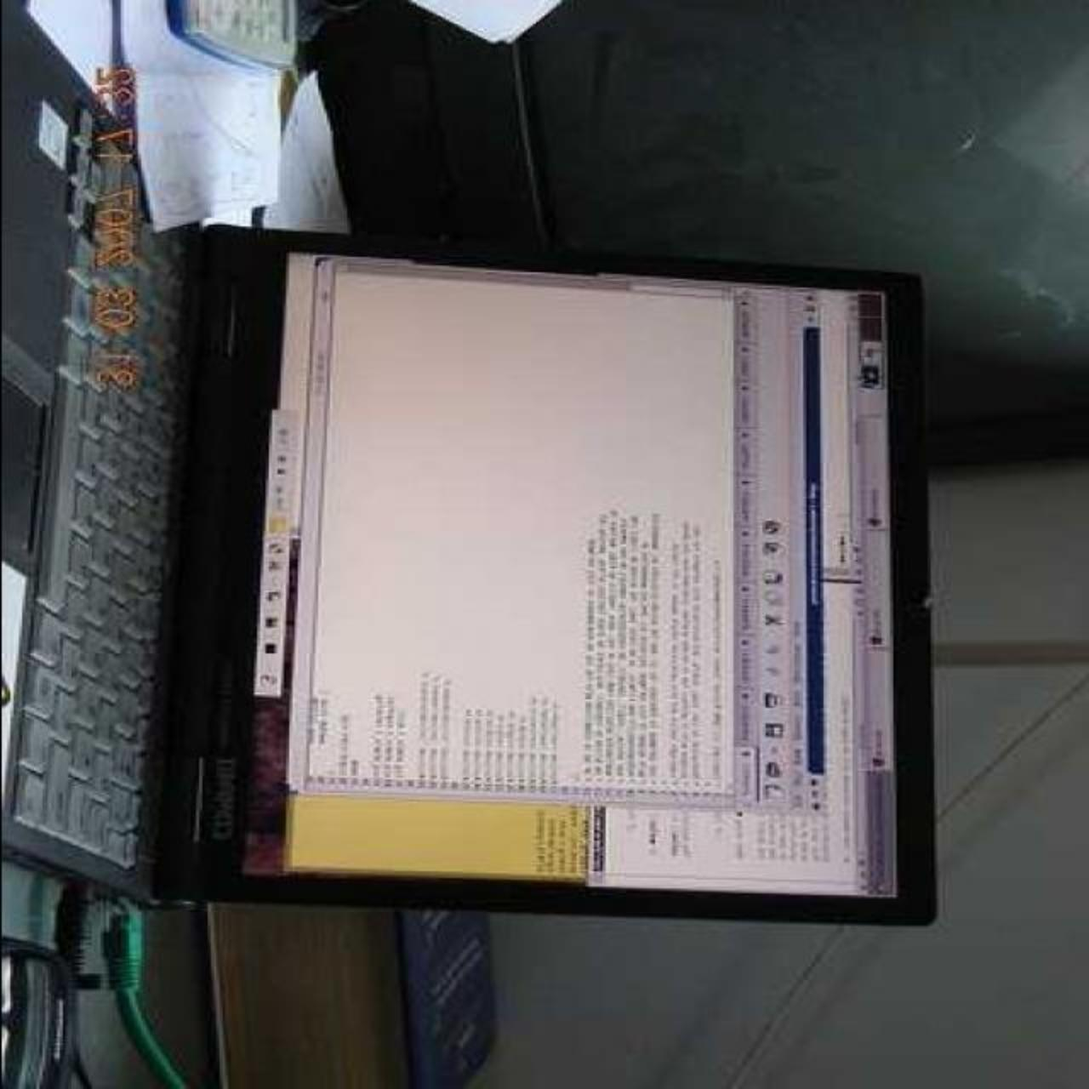laptop: (0, 279, 932, 919)
